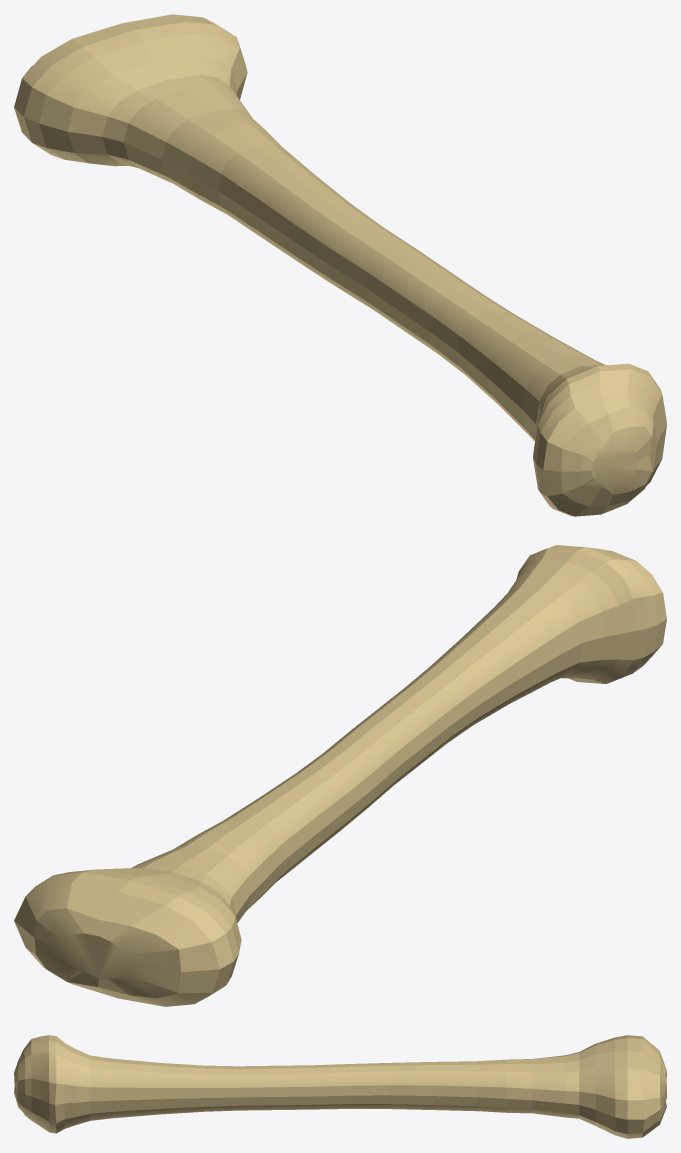
The model's file is Bone.fbx.
3 renders of one model, top to bottom at view 1: azimuth 30°, elevation 25°; view 2: azimuth 150°, elevation 25°; view 3: azimuth 270°, elevation 25°, orthographic. The views are drawn at different scales.
Parts seen in each view (by area): view 1: Cube; view 2: Cube; view 3: Cube.
Boxes of the visible parts, x1,y1,x2,y2 form: Cube: (14,14,666,516); Cube: (14,545,666,1006); Cube: (14,1035,666,1138).
Bounding box in the file's own units: 503 × 306 × 2120.
